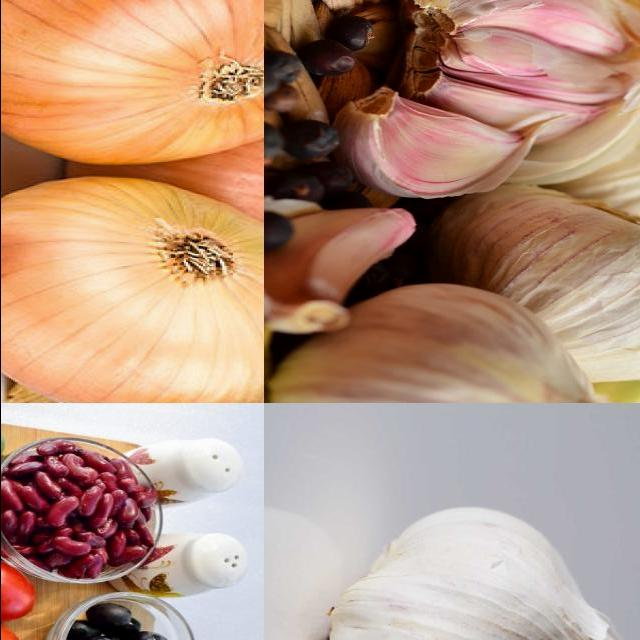garlic: (357, 1, 640, 202), (295, 503, 640, 640), (444, 186, 640, 404), (283, 282, 630, 404), (550, 92, 640, 265)
onion: (1, 176, 264, 404), (1, 1, 264, 165), (69, 84, 264, 276)
tomato: (1, 561, 36, 616)
